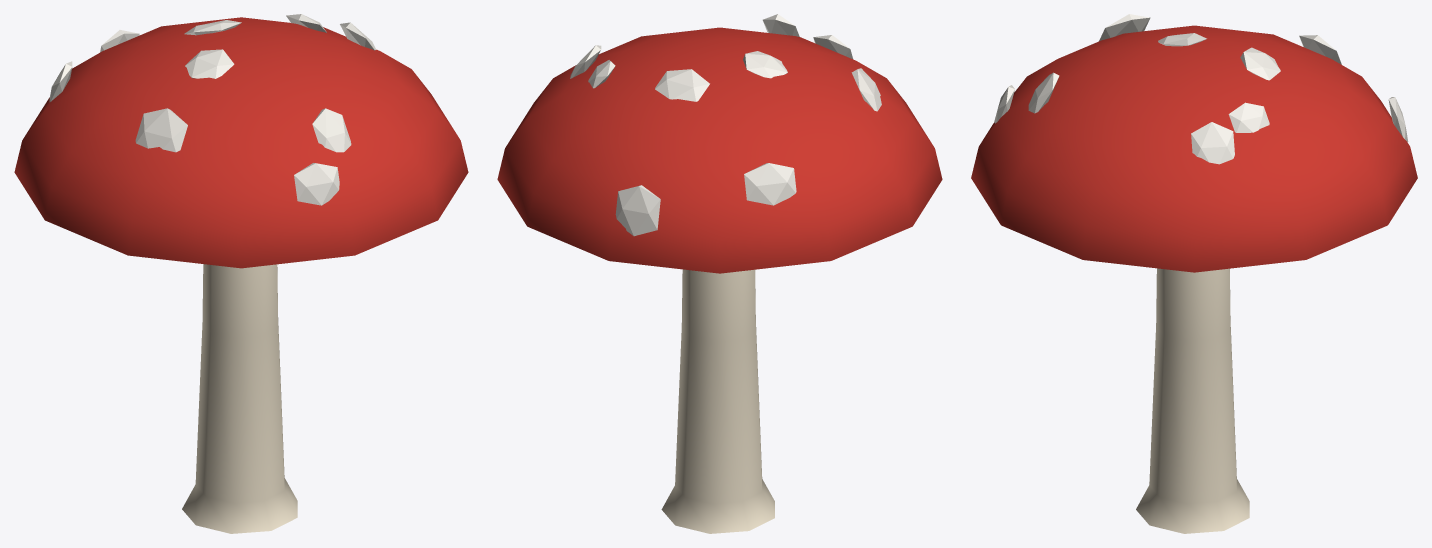
The model's file is mushroom.glb.
3 renders of one model, left to right at view 1: azimuth 30°, elevation 25°; view 2: azimuth 150°, elevation 25°; view 3: azimuth 270°, elevation 25°, orthographic. The views are drawn at different scales.
Parts seen in each view (by area): view 1: mushroom; view 2: mushroom; view 3: mushroom.
Part boxes in pixels (x1,y1,x2,y2): mushroom: [14, 14, 468, 533]; mushroom: [497, 14, 942, 533]; mushroom: [971, 14, 1417, 533].
Bounding box in the file's own units: 9.9 × 11.25 × 9.9.
